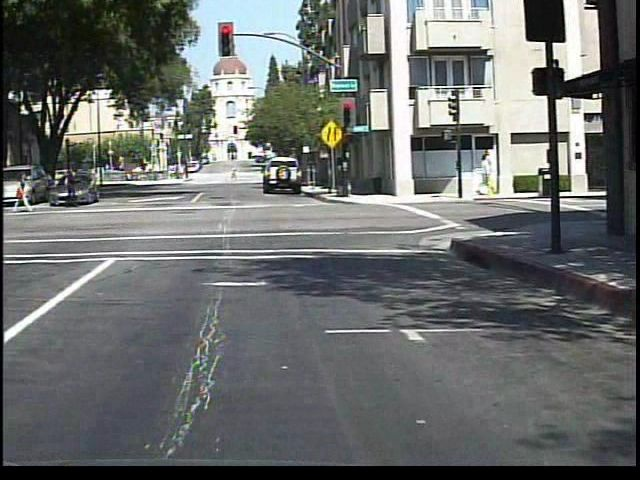person: (11, 169, 36, 219), (61, 167, 85, 209), (232, 166, 242, 183)
